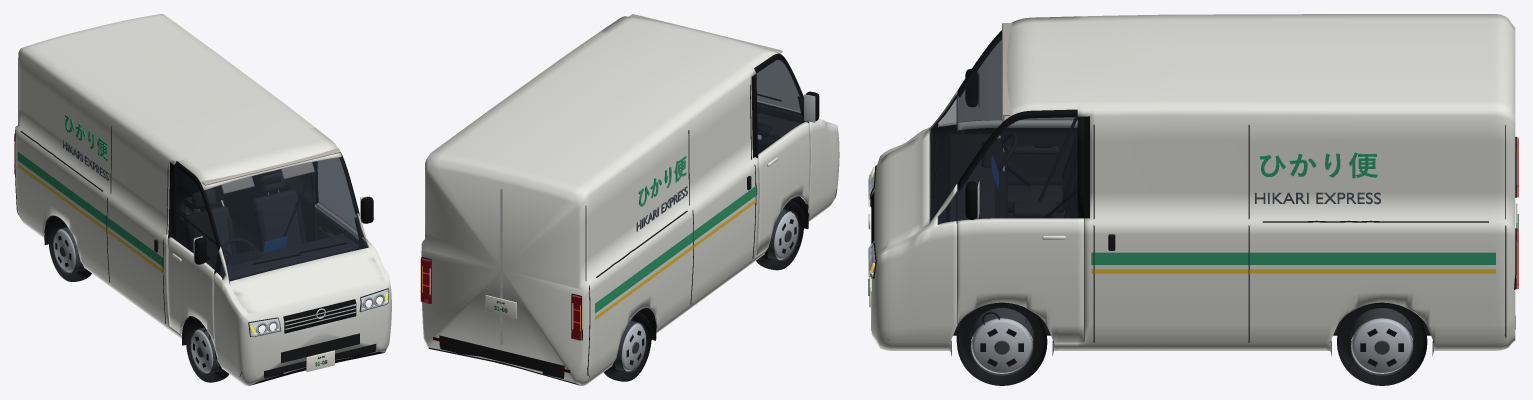
Rendered from car_delivery.glb.
The picture shows the model from 3 angles, left to right: view 1: azimuth 30°, elevation 25°; view 2: azimuth 150°, elevation 25°; view 3: azimuth 270°, elevation 25°; orthographic projection. The views are drawn at different scales.
Visible parts, largest first — view 1: body_paint, body_glass, body_door_FR, body_door_FR_glass, dashTop, seat_passenger_back, body_door_FL_glass, stripe_R, seat_driver_back, grille, body_door_FL, intake (+25 smaller); view 2: body_paint, body_door_FR, body_door_FR_glass, stripe_R, bumperR, body_glass, wheel_FR_cover, wheel_RR_cover, wheel_RR_tyre, wheel_FR_tyre, stripe_R.001, dashTop (+10 smaller); view 3: body_paint, body_door_FL, body_door_FL_glass, body_glass, stripe_L, body_door_FR, dashTop, wheel_RL_tyre, wheel_FL_tyre, body_door_FR_glass, wheel_FL_cover, wheel_RL_cover (+11 smaller).
Boxes of the visible parts, x1,y1,x2,y2 form: body_paint: (14, 14, 391, 385); body_glass: (204, 156, 368, 281); body_door_FR: (167, 237, 214, 347); body_door_FR_glass: (173, 165, 218, 269); dashTop: (211, 234, 359, 280); seat_passenger_back: (252, 189, 301, 247); body_door_FL_glass: (318, 158, 356, 231); stripe_R: (17, 152, 163, 267); seat_driver_back: (184, 206, 231, 265); grille: (283, 299, 356, 333); body_door_FL: (314, 202, 359, 249); intake: (281, 333, 359, 363); body_paint: (421, 16, 839, 385); body_door_FR: (756, 121, 810, 255); body_door_FR_glass: (756, 59, 805, 154); stripe_R: (595, 185, 757, 313); bumperR: (439, 335, 589, 378); body_glass: (757, 60, 799, 111); wheel_FR_cover: (774, 211, 798, 259); wheel_RR_cover: (621, 323, 645, 371); wheel_RR_tyre: (603, 311, 651, 381); wheel_FR_tyre: (756, 200, 803, 270); stripe_R.001: (595, 199, 756, 320); dashTop: (757, 113, 801, 138); body_paint: (871, 14, 1515, 350); body_door_FL: (952, 218, 1083, 342); body_door_FL_glass: (957, 116, 1077, 220); body_glass: (929, 30, 1001, 224); stripe_L: (1091, 252, 1495, 264); body_door_FR: (942, 120, 1077, 222); dashTop: (948, 134, 995, 221); wheel_RL_tyre: (1337, 303, 1427, 385); wheel_FL_tyre: (957, 306, 1047, 385); body_door_FR_glass: (957, 40, 1074, 122); wheel_FL_cover: (971, 318, 1032, 373); wheel_RL_cover: (1351, 318, 1413, 373).
Size of the model in its own units: 2.07 by 2.27 by 4.74.
